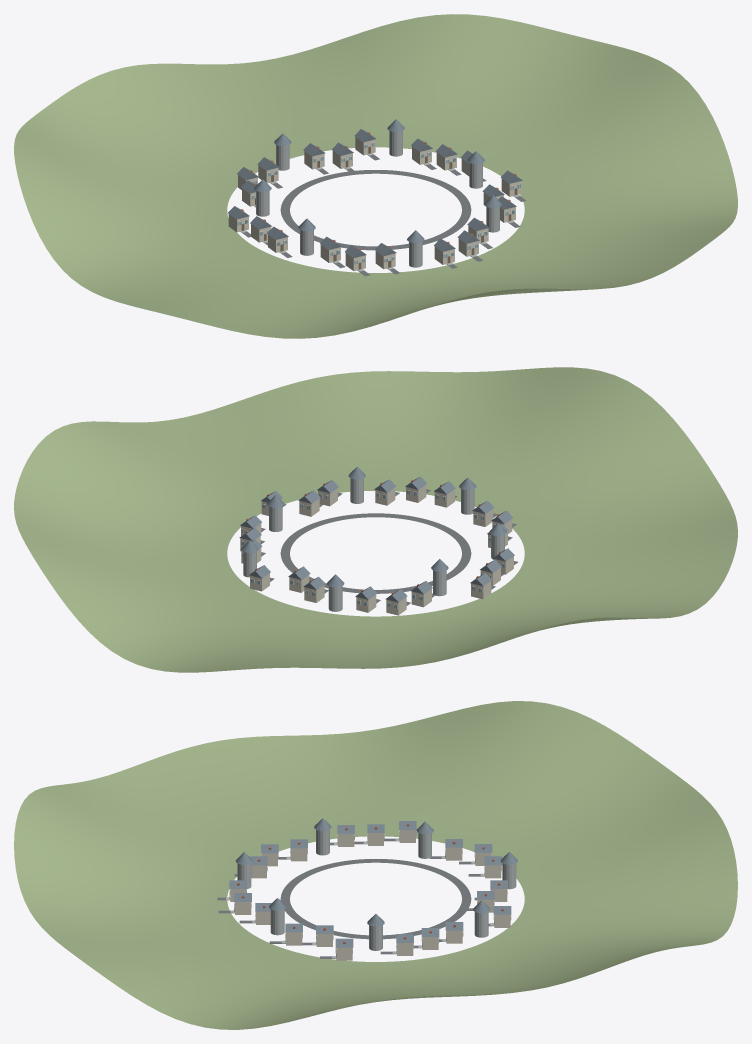
File: backdrop-medieval.glb
3 renders of one model, top to bottom at view 1: azimuth 30°, elevation 25°; view 2: azimuth 150°, elevation 25°; view 3: azimuth 270°, elevation 25°, orthographic.
Visible parts, largest first — view 1: grass, plaster, roof, road, stone, trim; view 2: grass, plaster, roof, stone, road, trim; view 3: grass, roof, plaster, road, stone.
Part boxes in pixels (left/top/right/bottom): grass: left=14, top=14, right=737, bottom=338; plaster: left=228, top=137, right=521, bottom=271; roof: left=228, top=119, right=522, bottom=258; road: left=242, top=155, right=526, bottom=276; stone: left=240, top=131, right=520, bottom=271; trim: left=237, top=142, right=520, bottom=264; grass: left=14, top=367, right=737, bottom=672; plaster: left=240, top=485, right=513, bottom=615; roof: left=239, top=466, right=514, bottom=602; stone: left=243, top=478, right=504, bottom=611; road: left=260, top=489, right=517, bottom=605; trim: left=241, top=490, right=504, bottom=608; grass: left=14, top=701, right=737, bottom=1029; roof: left=229, top=818, right=517, bottom=947; plaster: left=230, top=830, right=510, bottom=960; road: left=217, top=838, right=491, bottom=958; stone: left=226, top=829, right=516, bottom=958.
Bounding box in the file's own units: 156 × 15.07 × 156.
